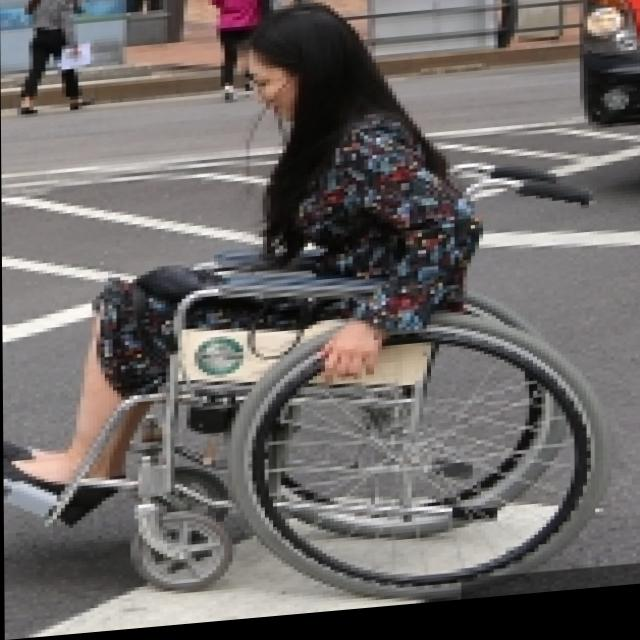wheelchair: (4, 0, 606, 627)
